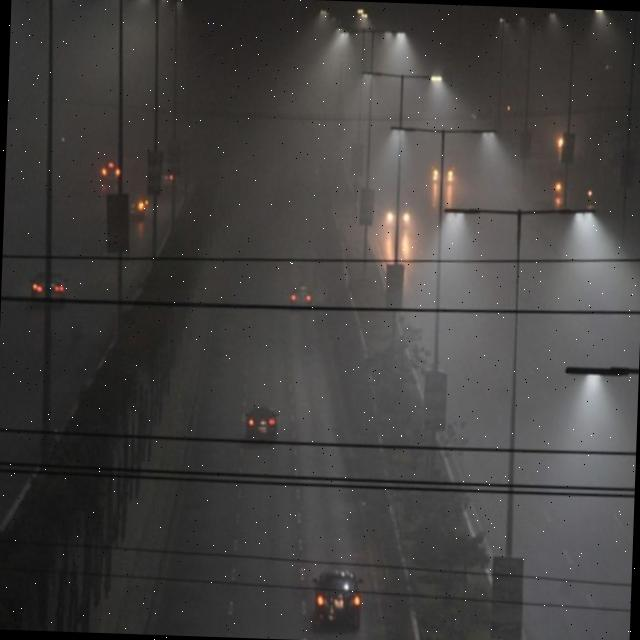car: (308, 568, 360, 632), (242, 406, 279, 440), (28, 272, 64, 302), (428, 151, 456, 186), (382, 198, 410, 228), (289, 282, 313, 310), (122, 196, 146, 218), (100, 158, 120, 180)
